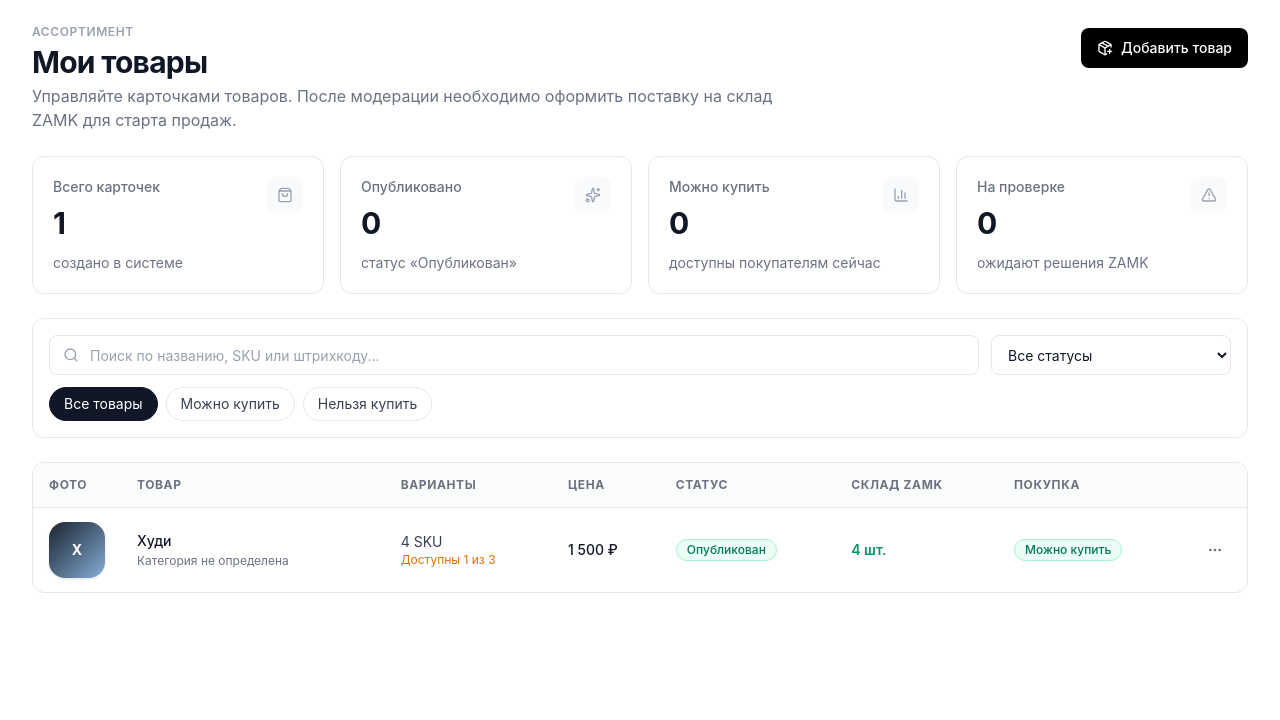
Scenario: SellerProducts drawer — SKU workflow › shows each SKU with its own state, reason and responsible party
Click the text "Худи".
click(154, 540)  # box [137,532,172,549]
(page scrolled)
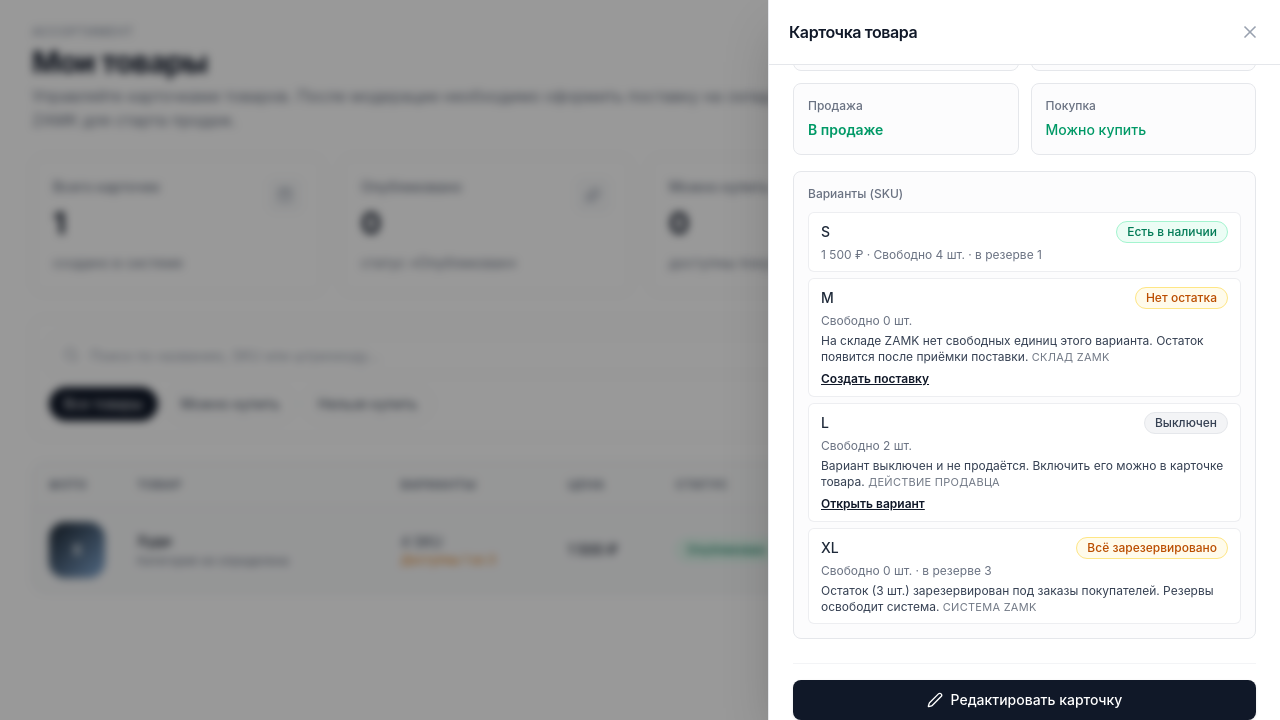
Result: the element with test id "drawer-sku-row" shows "Свободно 4 шт." at [874,247,1042,262]
Result: the element with test id "drawer-sku-row" shows "в резерве 1" at [874,247,1042,262]
Result: the element with test id "drawer-sku-row" shows "Склад ZAMK" at [1032,350,1110,364]
